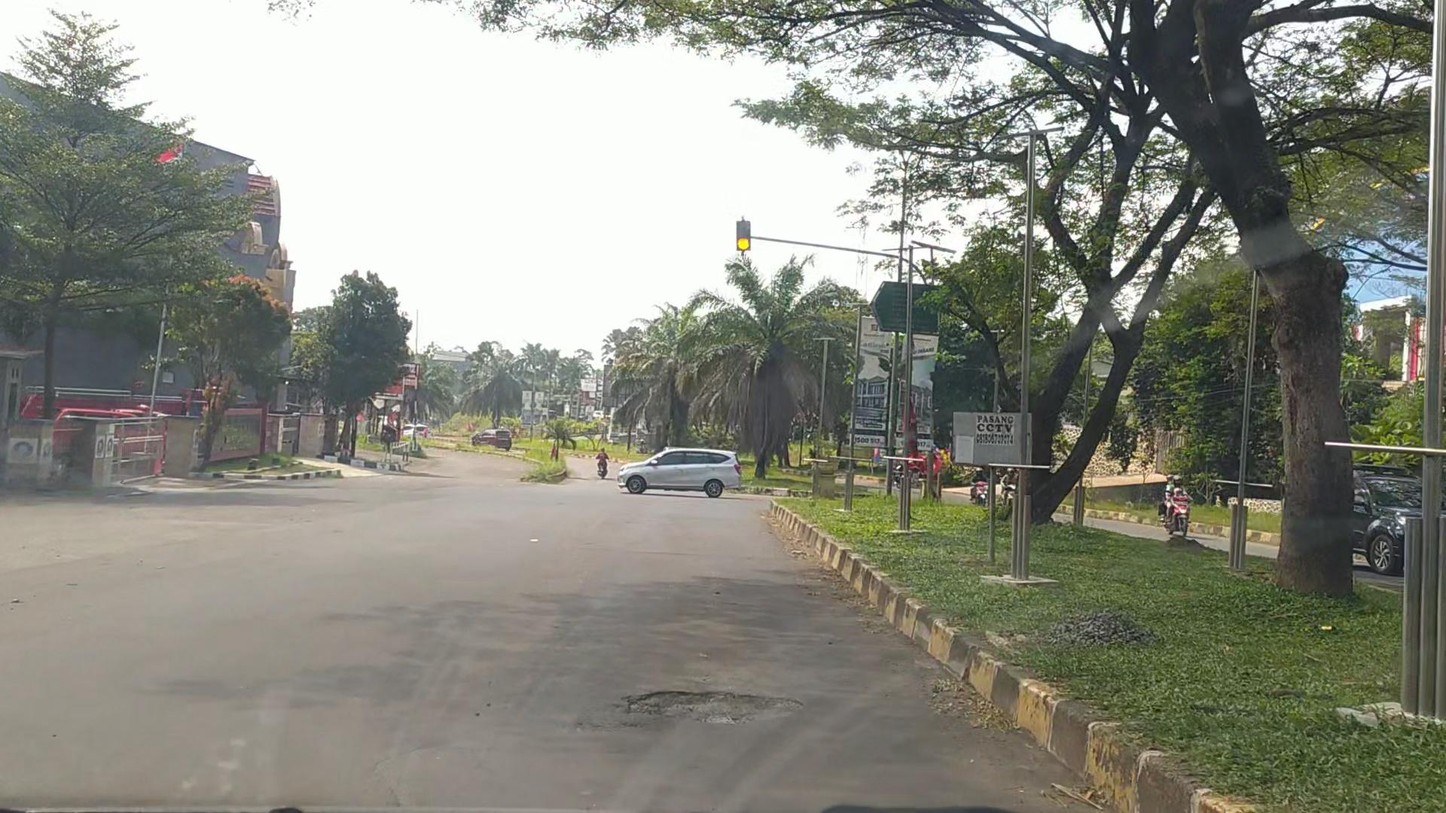pothole: (621, 682, 808, 725)
